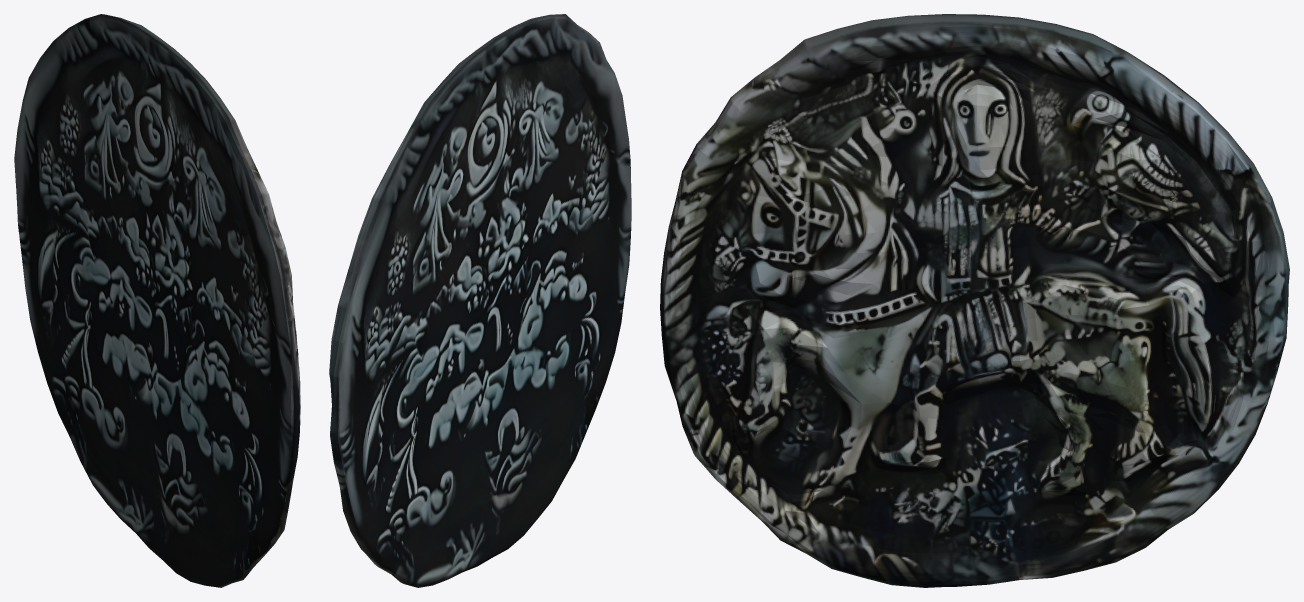
Rendered from sokolnik.glb.
3 renders of one model, left to right at view 1: azimuth 30°, elevation 25°; view 2: azimuth 150°, elevation 25°; view 3: azimuth 270°, elevation 25°, orthographic. The views are drawn at different scales.
Parts seen in each view (by area): view 1: tripo_node_410a10ca-b2b4-48a7-9bdd-0c68ac1282a0; view 2: tripo_node_410a10ca-b2b4-48a7-9bdd-0c68ac1282a0; view 3: tripo_node_410a10ca-b2b4-48a7-9bdd-0c68ac1282a0.
Part boxes in pixels (box(x1,y1,x2,y2)): tripo_node_410a10ca-b2b4-48a7-9bdd-0c68ac1282a0: box(14, 14, 300, 587); tripo_node_410a10ca-b2b4-48a7-9bdd-0c68ac1282a0: box(329, 14, 631, 587); tripo_node_410a10ca-b2b4-48a7-9bdd-0c68ac1282a0: box(660, 14, 1289, 587).
Size of the model in its own units: 0.0498 by 0.9978 by 0.9972.
1 material, 1 textured.
